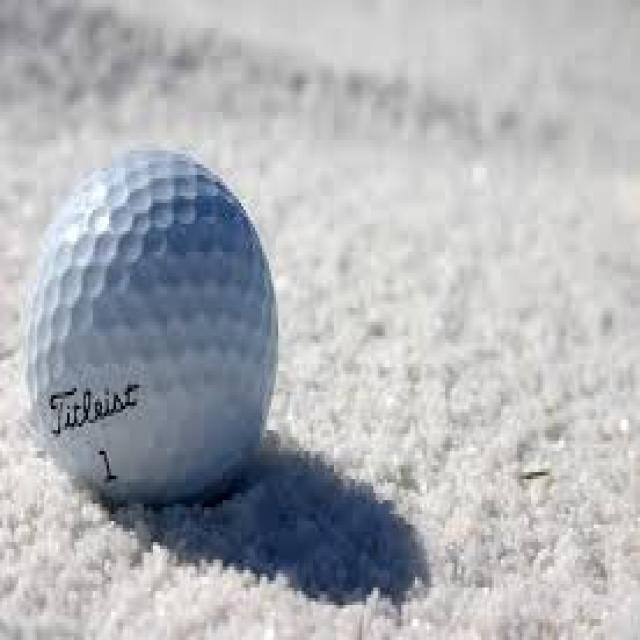golfball: (29, 145, 277, 509)
